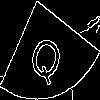Q: (25, 24, 70, 88)
